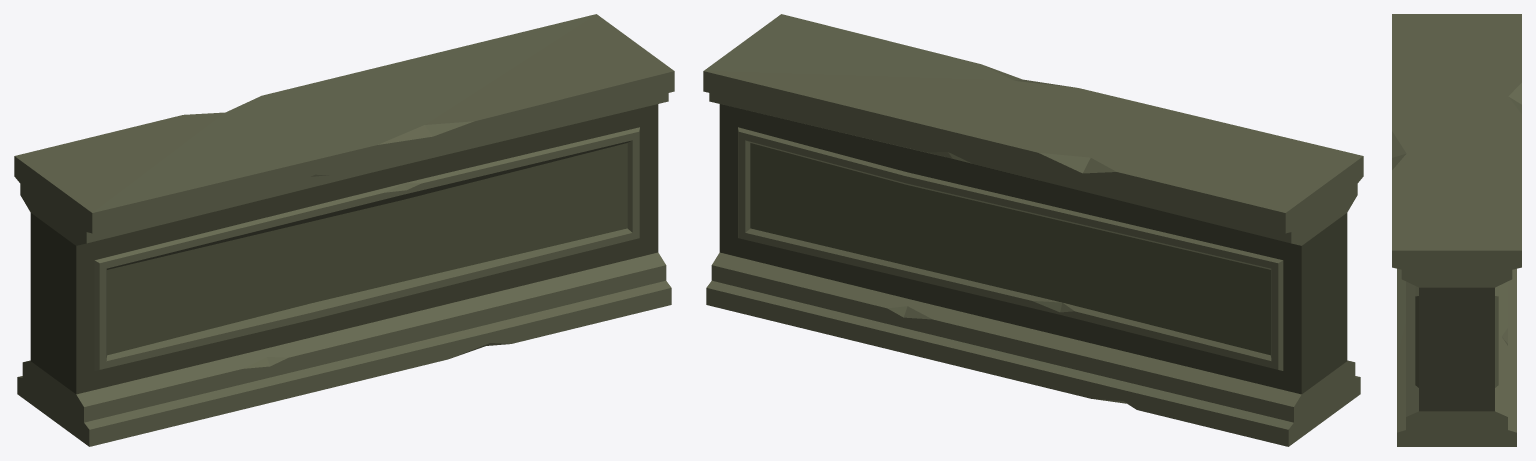
File: SM_Bld_Roof_Edge_01.fbx
3 views of the same model, side by side, from view 1: azimuth 30°, elevation 25°; view 2: azimuth 150°, elevation 25°; view 3: azimuth 270°, elevation 25° (orthographic). The views are drawn at different scales.
Parts seen in each view (by area): view 1: SM_Bld_Roof_Edge_01; view 2: SM_Bld_Roof_Edge_01; view 3: SM_Bld_Roof_Edge_01.
Boxes of the visible parts, x1,y1,x2,y2 form: SM_Bld_Roof_Edge_01: (14,14,674,446); SM_Bld_Roof_Edge_01: (703,14,1363,446); SM_Bld_Roof_Edge_01: (1392,14,1521,446).
Bounding box in the file's own units: 250 × 96.86 × 58.
Materials: 1 (1 with a texture image).
